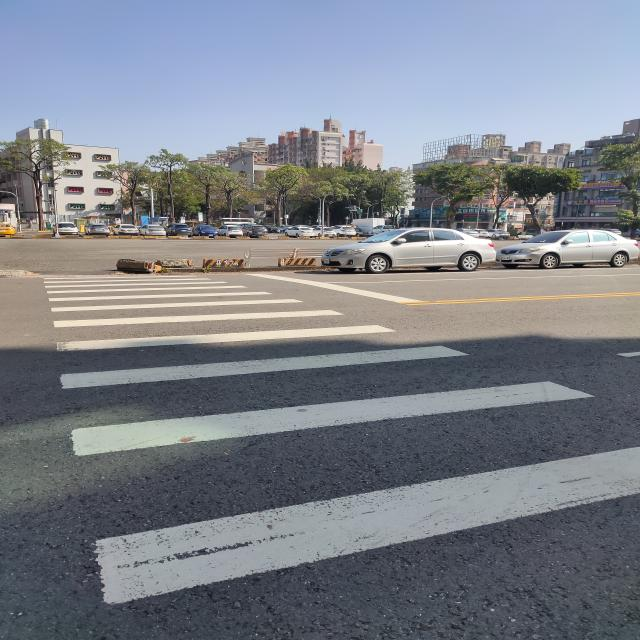zebra crossing: (37, 275, 640, 607)
